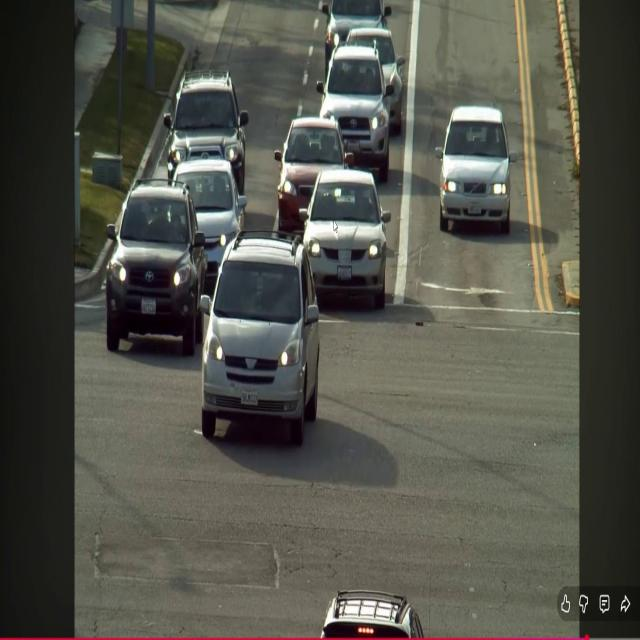car: (201, 231, 319, 446), (106, 179, 206, 355), (300, 170, 390, 309), (317, 42, 393, 183), (435, 105, 517, 233), (164, 71, 248, 194), (175, 159, 246, 292), (275, 117, 353, 232), (347, 27, 405, 135), (321, 0, 391, 77), (321, 591, 423, 638)
